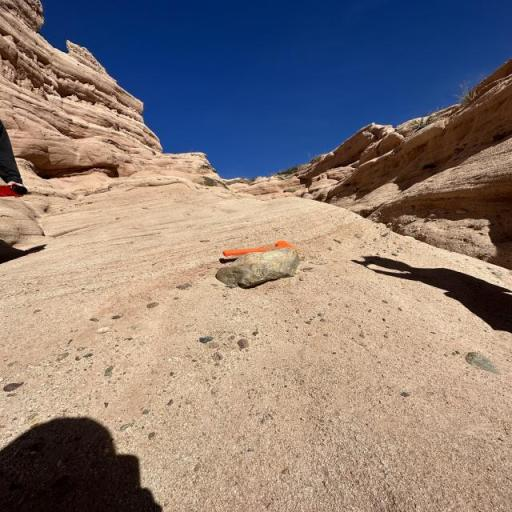bottle: (223, 241, 297, 257), (0, 184, 28, 198)
